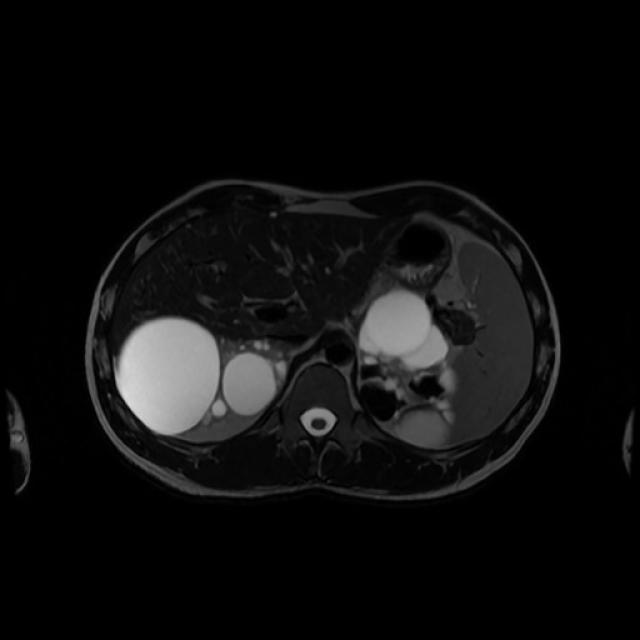sag: (114, 318, 288, 435)
sol: (358, 288, 457, 447)
